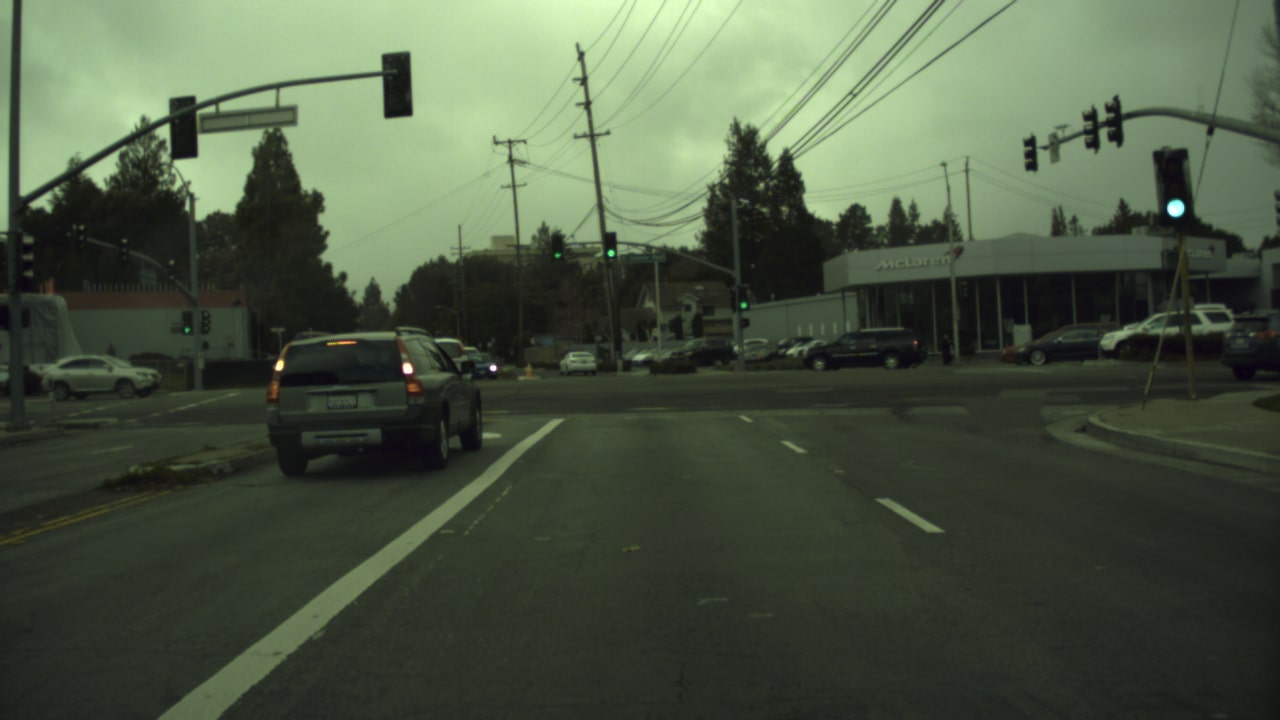signal: (1156, 152, 1192, 229), (548, 241, 569, 272), (733, 286, 752, 317), (600, 233, 619, 263), (177, 312, 194, 337)
